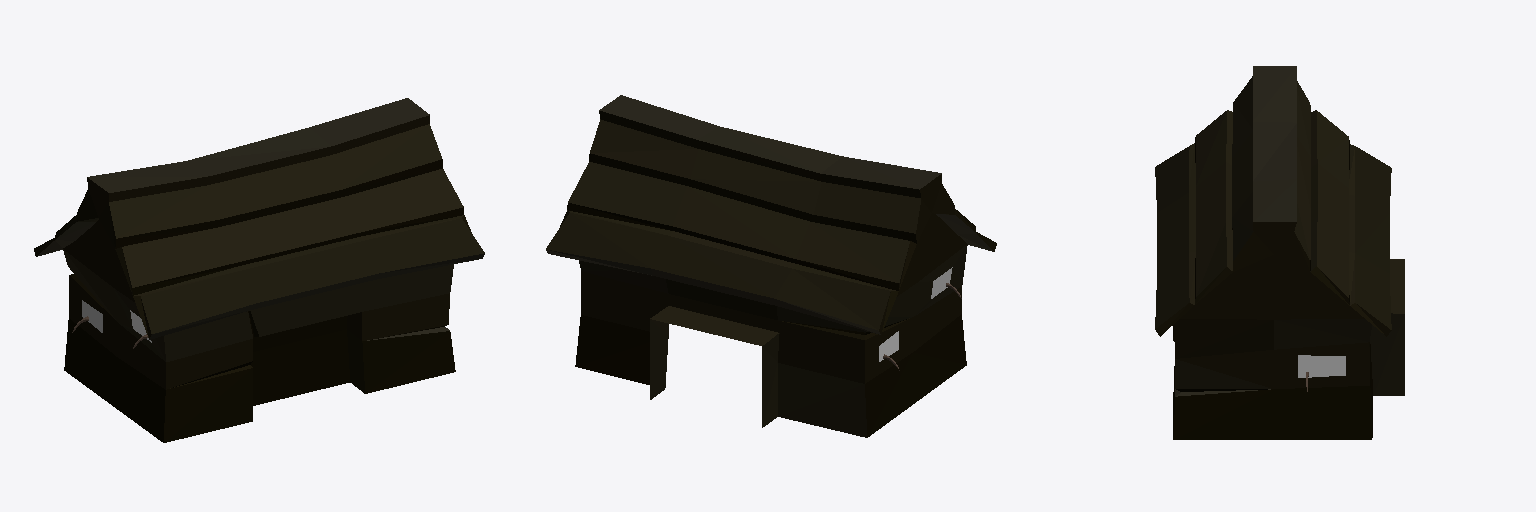
Rendered from house.obj.
The picture shows the model from 3 angles: view 1: azimuth 30°, elevation 25°; view 2: azimuth 150°, elevation 25°; view 3: azimuth 270°, elevation 25°; orthographic projection.
Bounding box in the file's own units: 379 × 245 × 246.